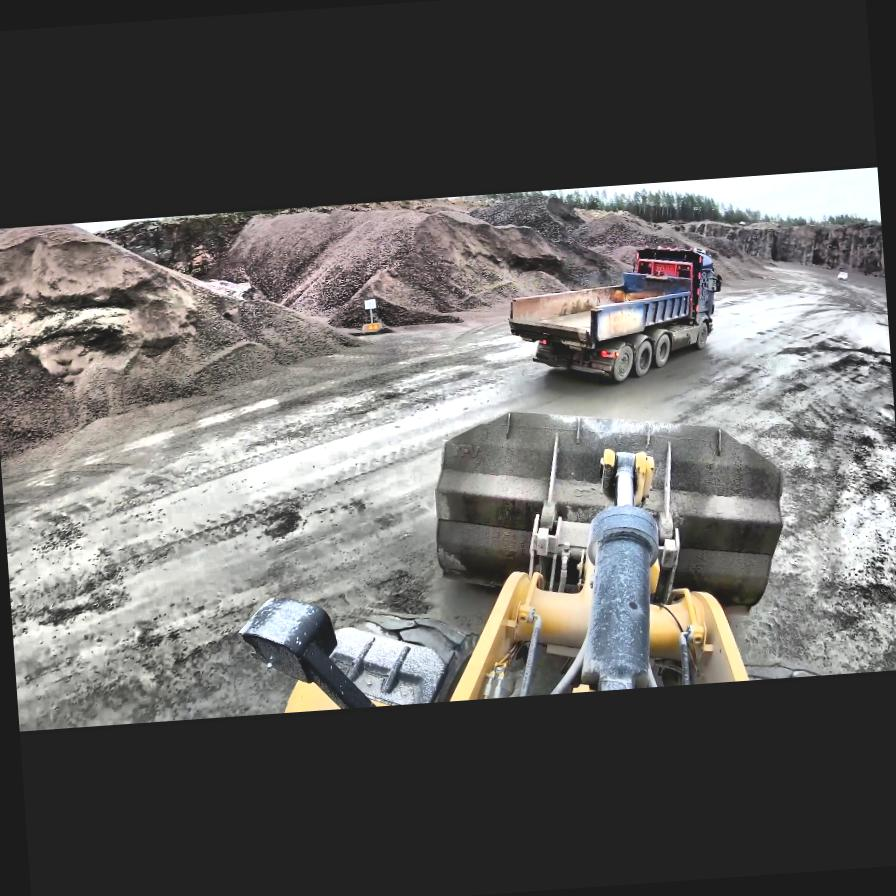anchor: (597, 444, 658, 510)
pile of gravel: (0, 201, 389, 504), (213, 191, 511, 342), (468, 177, 754, 310)
